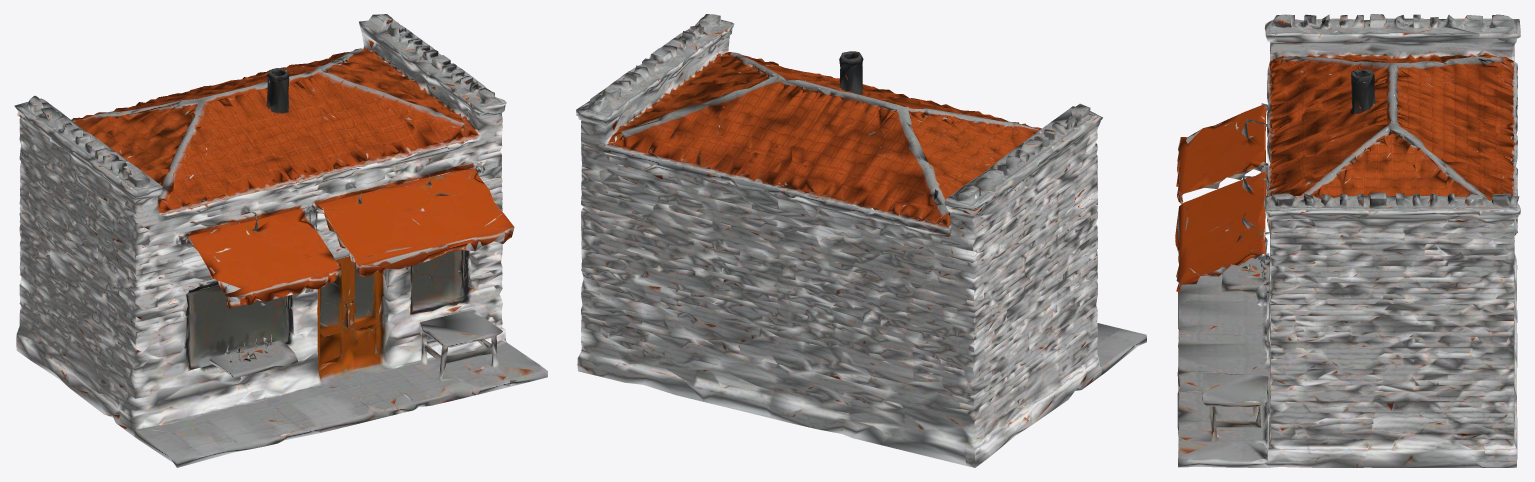
The model's file is restaurant-storefront-lite.glb.
3 renders of one model, left to right at view 1: azimuth 30°, elevation 25°; view 2: azimuth 150°, elevation 25°; view 3: azimuth 270°, elevation 25°, orthographic. The views are drawn at different scales.
Bounding box in the file's own units: 1.9 × 1.39 × 1.44.
Materials: 1 (1 with a texture image).
